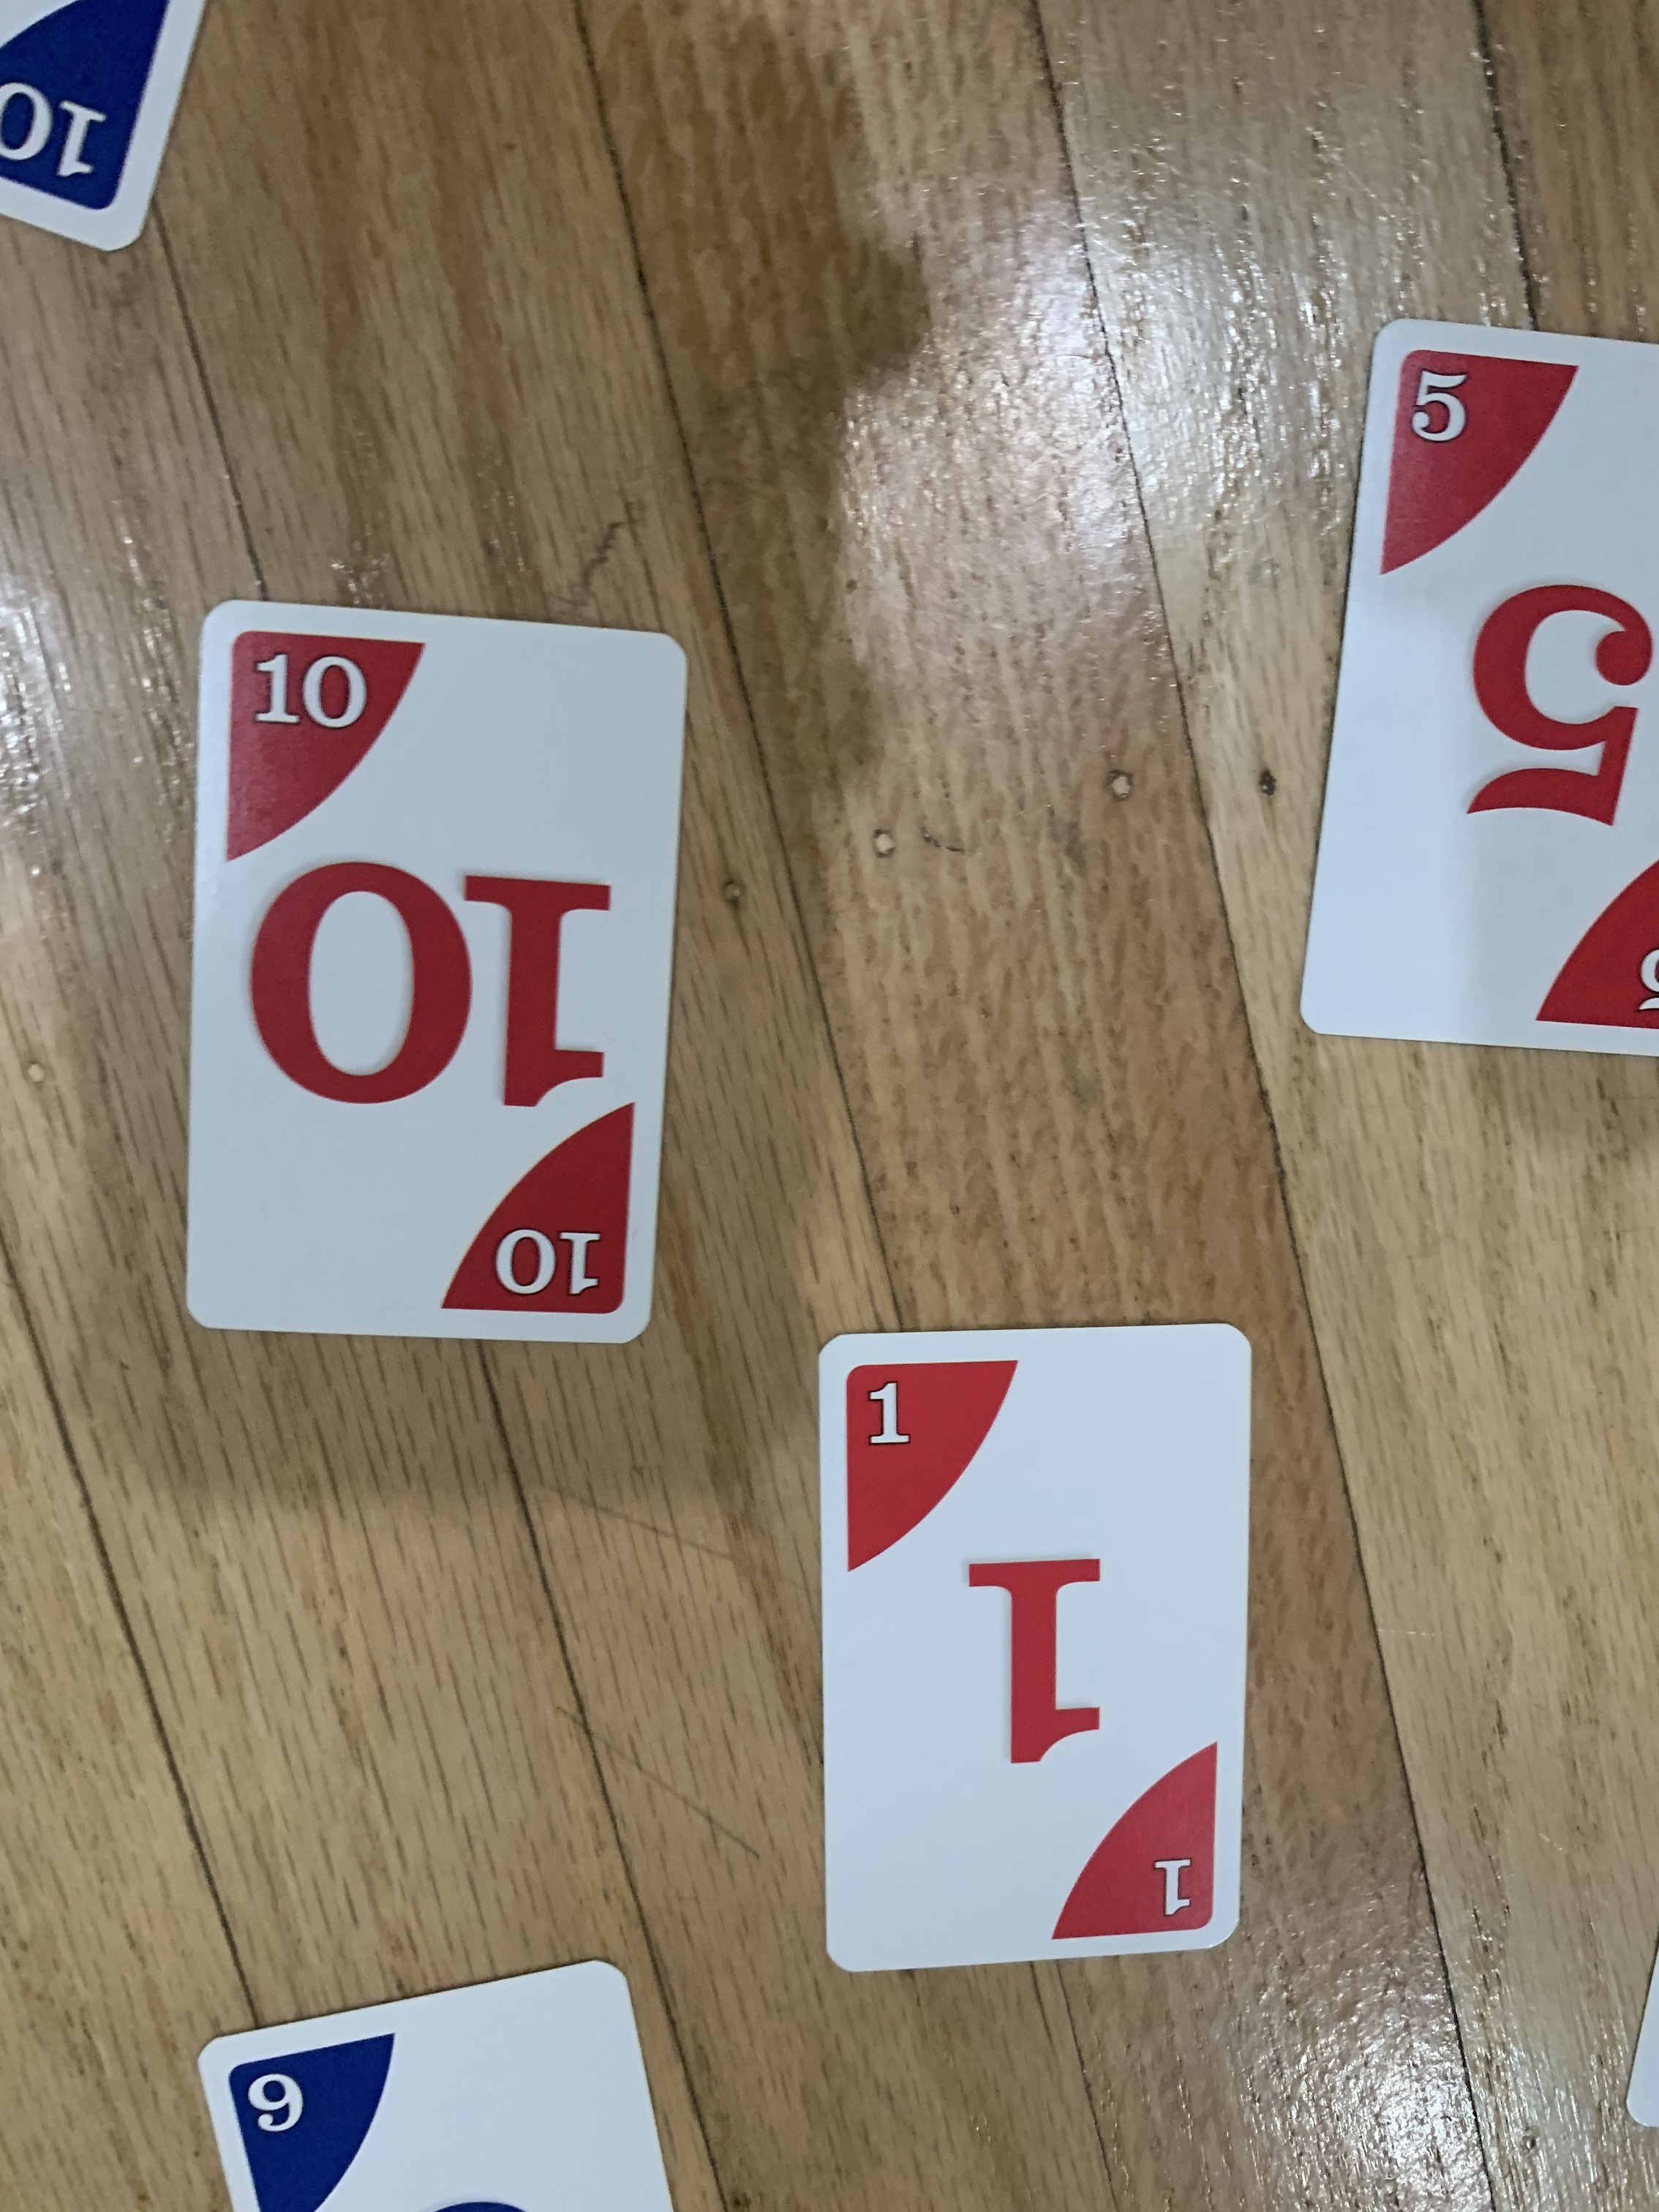five: (1302, 303, 1659, 1054)
one: (793, 1313, 1260, 1979)
ten: (166, 585, 674, 1360)
